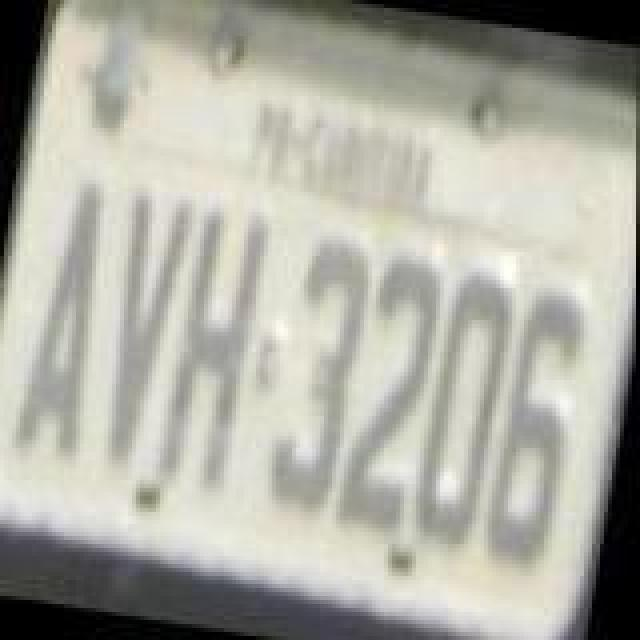2: (336, 244, 456, 540)
3: (262, 230, 378, 522)
6: (478, 276, 594, 572)
A: (10, 172, 126, 468)
H: (152, 204, 272, 500)
O: (406, 260, 522, 556)
V: (82, 182, 198, 474)
